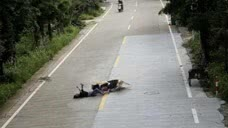falling: (71, 78, 104, 100)
